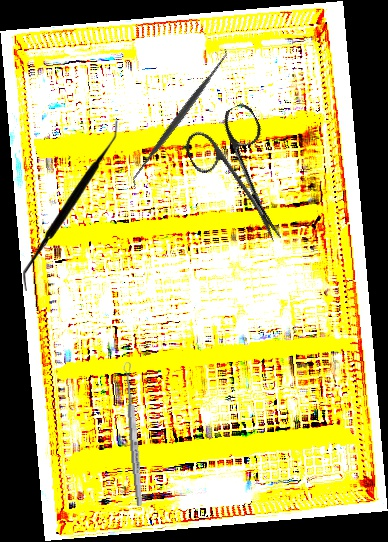Iris Scissors: (178, 100, 313, 258)
Spatula Surgical: (122, 46, 237, 190), (23, 119, 119, 291)
Surgical Spoon: (122, 361, 145, 507)
